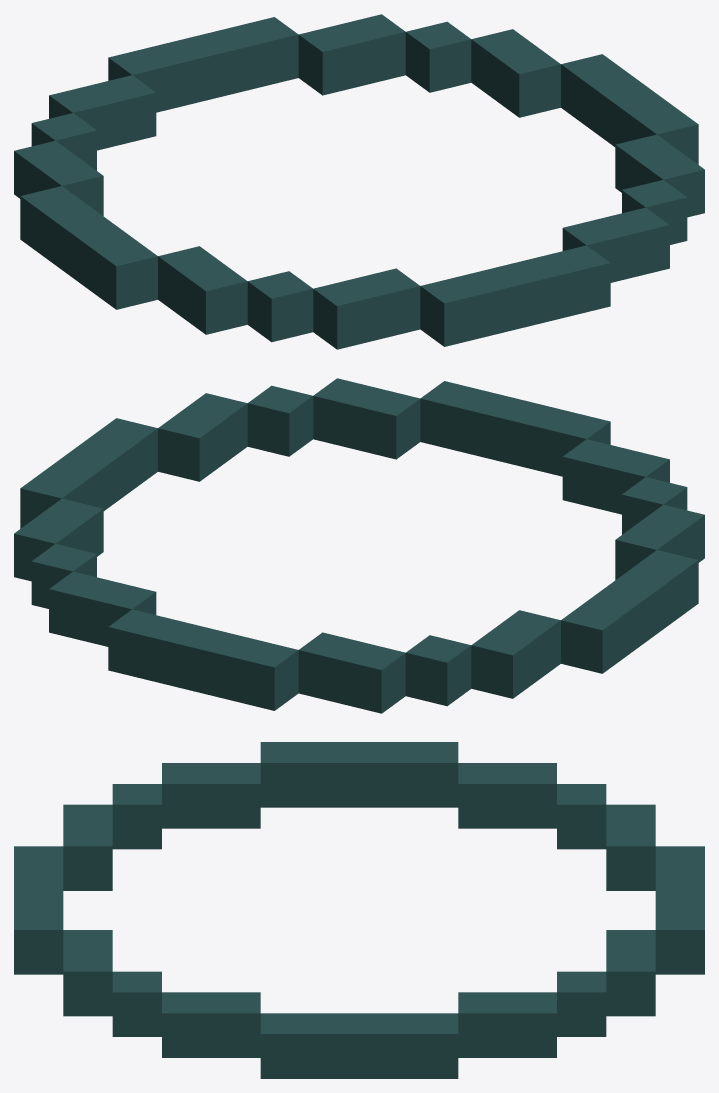
File: Crystal_Ring_2.glb
3 views of the same model, one above another, from view 1: azimuth 30°, elevation 25°; view 2: azimuth 150°, elevation 25°; view 3: azimuth 270°, elevation 25° (orthographic). The views are drawn at different scales.
Parts seen in each view (by area): view 1: Crystal_Ring_2; view 2: Crystal_Ring_2; view 3: Crystal_Ring_2.
Part boxes in pixels (x1,y1,x2,y2): Crystal_Ring_2: [14, 14, 704, 349]; Crystal_Ring_2: [14, 378, 704, 713]; Crystal_Ring_2: [14, 742, 704, 1078].
Size of the model in its own units: 0.35 by 0.025 by 0.35.
